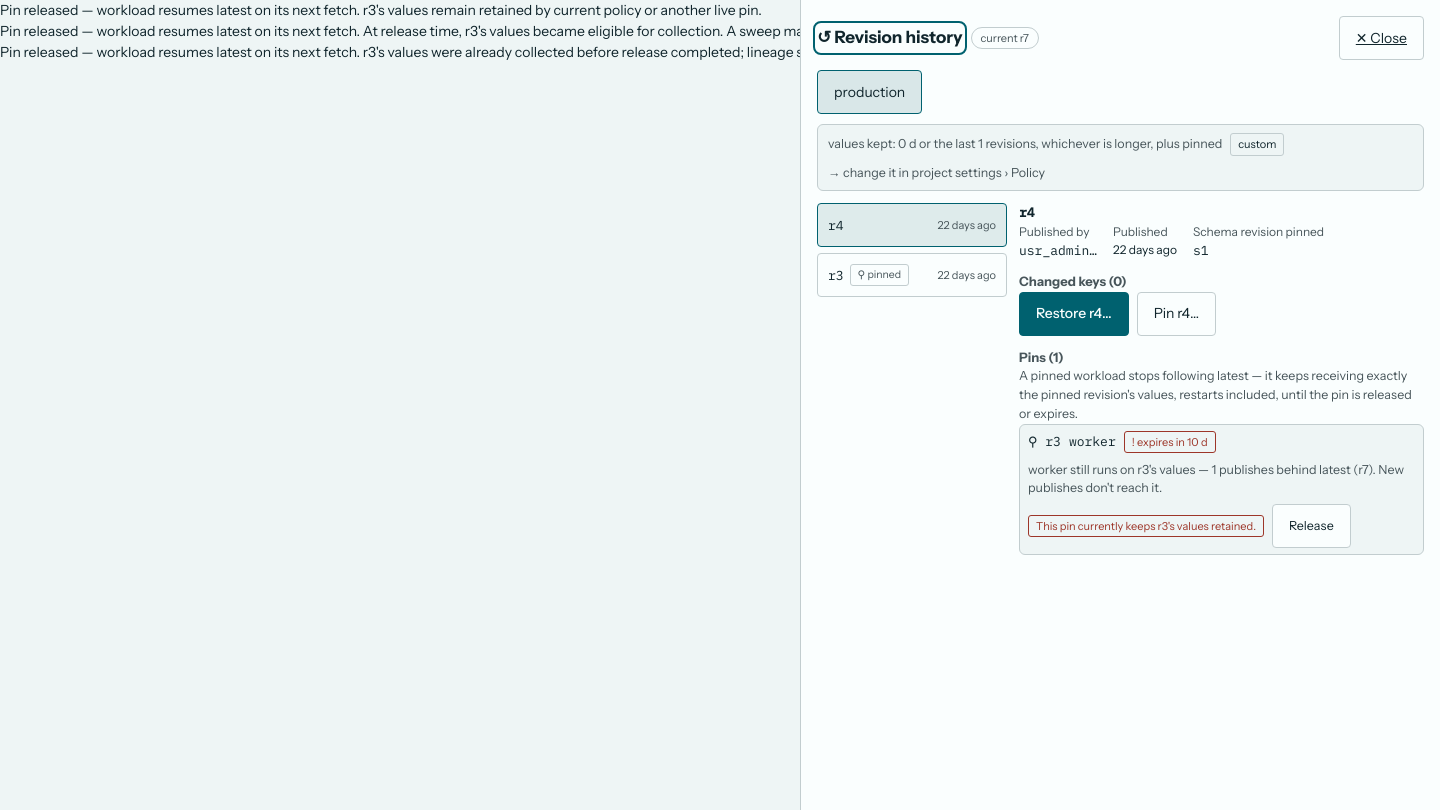
HistoryDrawer pin release flow › keeps confirmation only for a server-previewed collection risk
Click the button "Release" at {"x": 1311, "y": 526}, box [1272,504,1351,548]
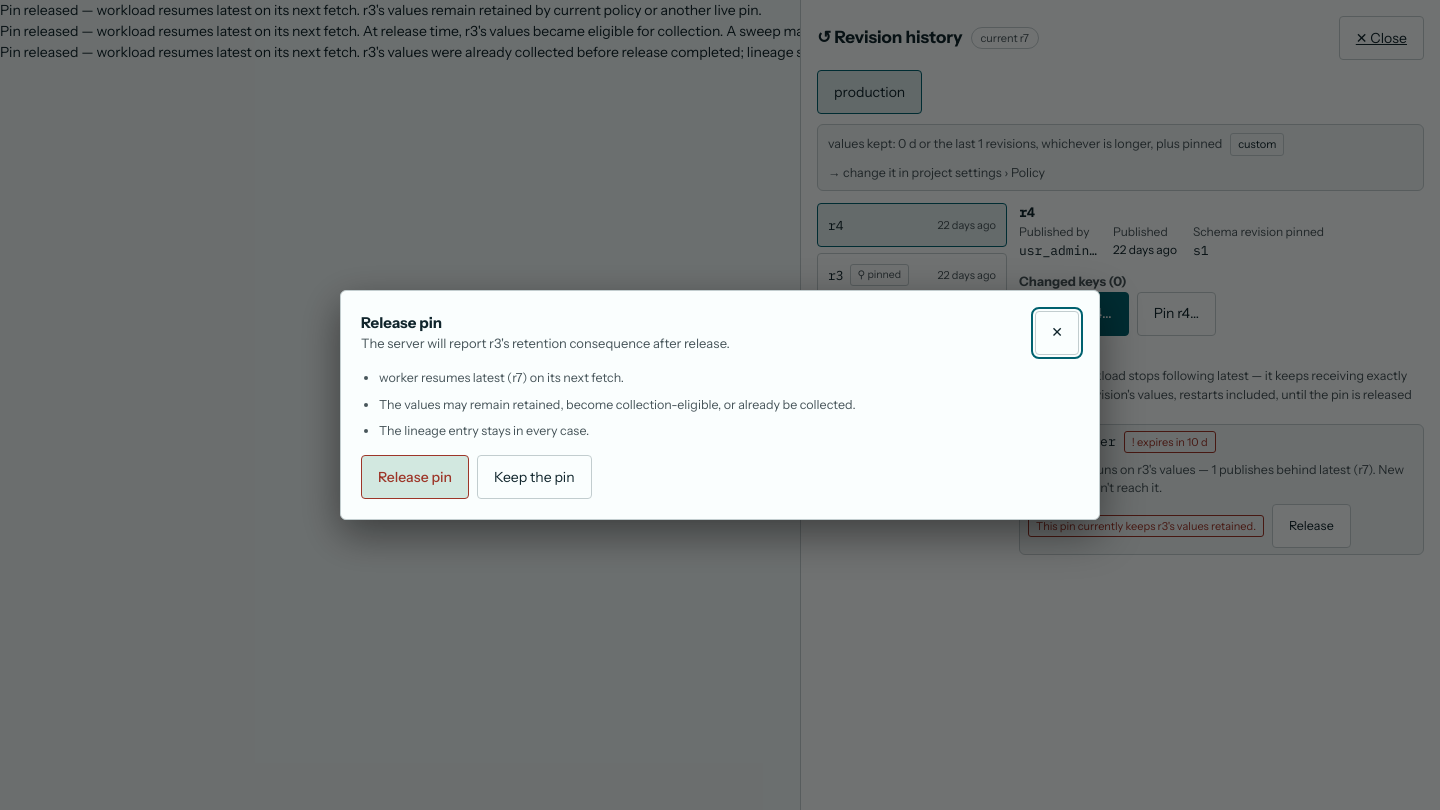
Click the button "Release pin" at {"x": 415, "y": 477}, box [361,455,469,499]
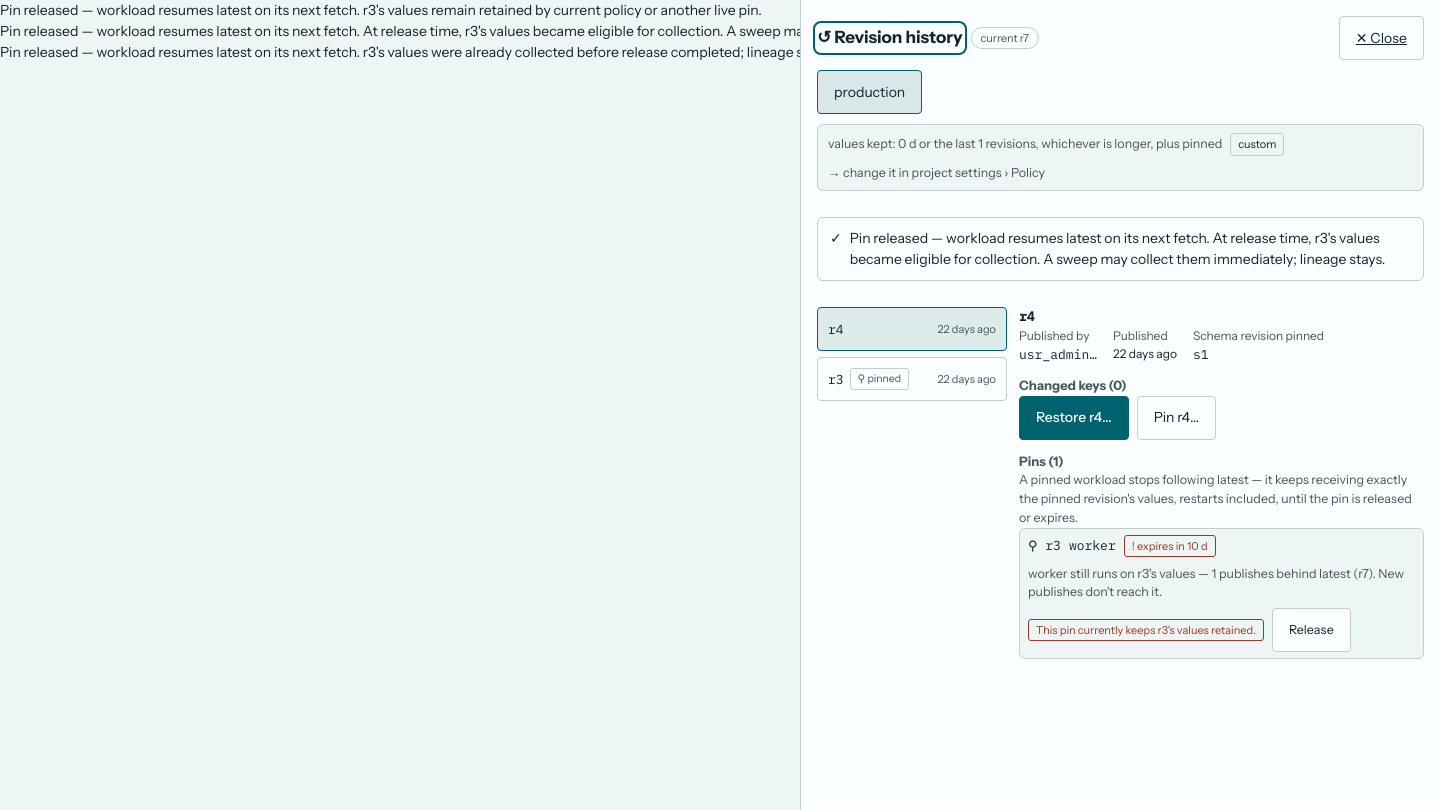
Result: the message shows "r3's values became eligible for collection" at [850,229,1385,268]
